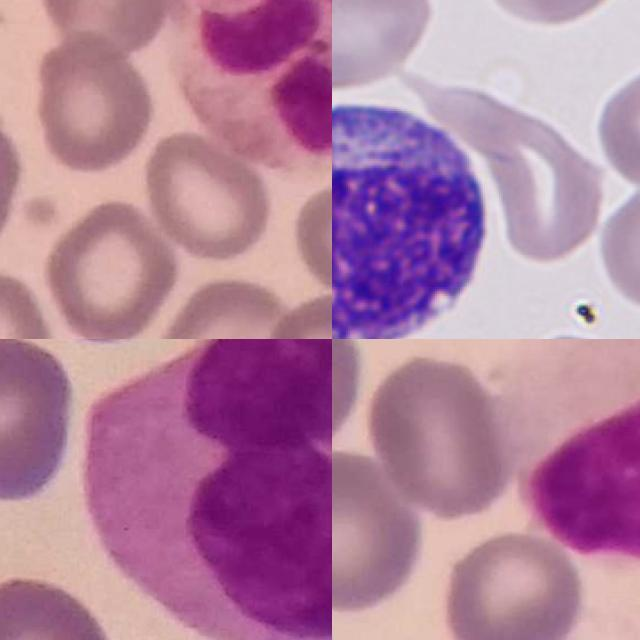Lymphocyte: (332, 89, 499, 339), (503, 339, 640, 566)
Monocyte: (86, 339, 332, 640)
Neutrophil: (170, 0, 332, 176)
RBC: (489, 106, 608, 268), (332, 0, 438, 93), (589, 59, 640, 190), (593, 176, 640, 317), (477, 0, 632, 31)
